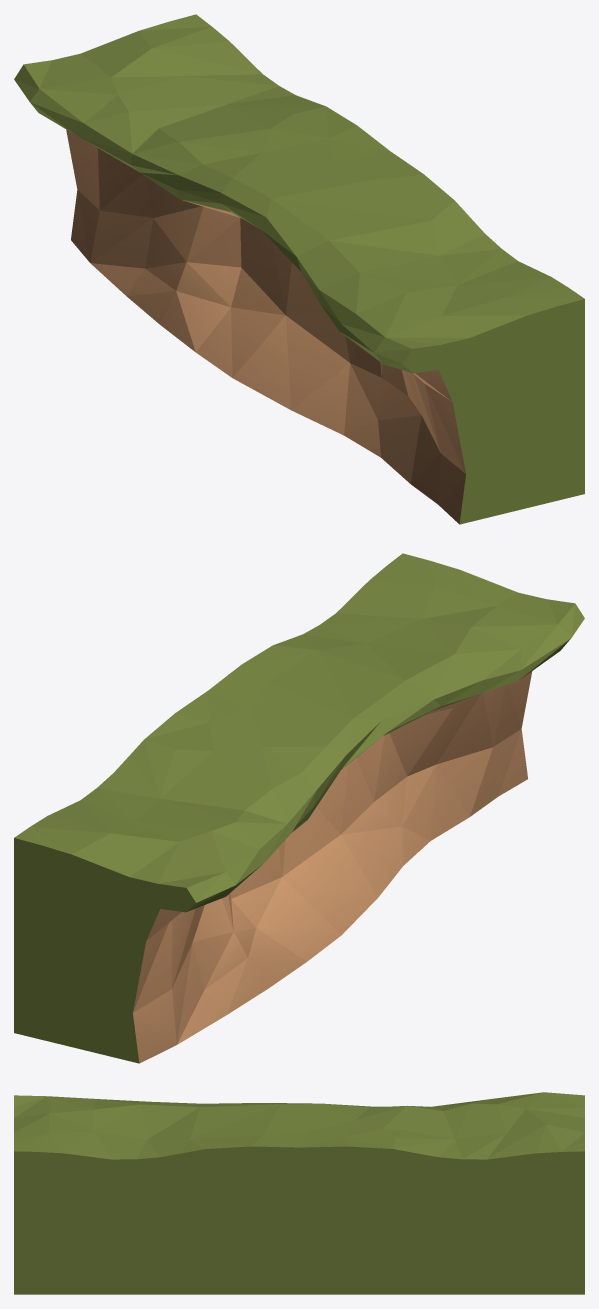
The model's file is Terrian_Cliff_Edge_Straight-02.fbx.
3 renders of one model, top to bottom at view 1: azimuth 30°, elevation 25°; view 2: azimuth 150°, elevation 25°; view 3: azimuth 270°, elevation 25°, orthographic. The views are drawn at different scales.
Visible parts, largest first — view 1: Terrian_Cliff_Edge_Straight-02; view 2: Terrian_Cliff_Edge_Straight-02; view 3: Terrian_Cliff_Edge_Straight-02.
Part boxes in pixels (x1,y1,x2,y2): Terrian_Cliff_Edge_Straight-02: (14,14,584,524); Terrian_Cliff_Edge_Straight-02: (14,553,584,1063); Terrian_Cliff_Edge_Straight-02: (14,1092,584,1294).
Bounding box in the file's own units: 1038 × 1031 × 3600.
Materials: 1 (1 with a texture image).
